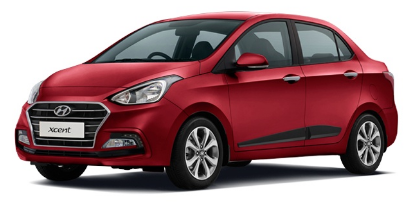car: (12, 8, 402, 192)
